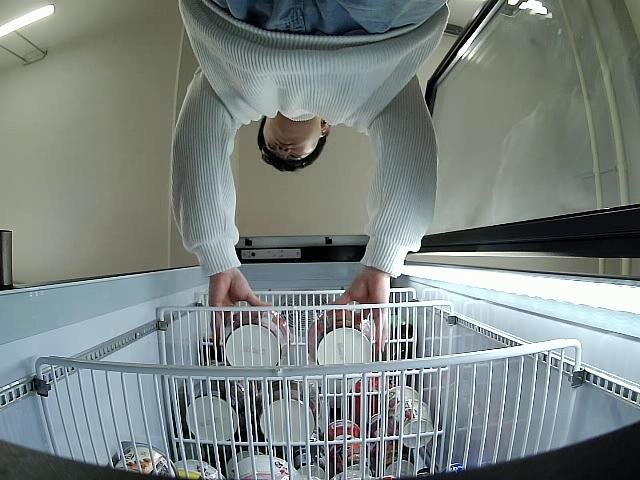00_hand: (331, 268, 390, 348), (209, 275, 273, 335)
01_shinRamen_L: (221, 308, 289, 367), (307, 310, 377, 365)
